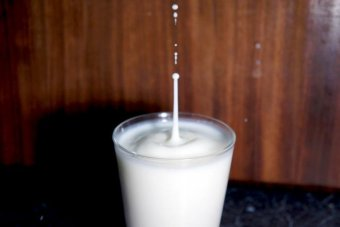glass of milk: (111, 63, 236, 226)
